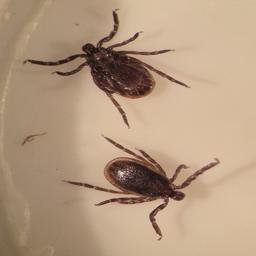Ixodes scapularis: (26, 7, 192, 128), (58, 133, 221, 241)
